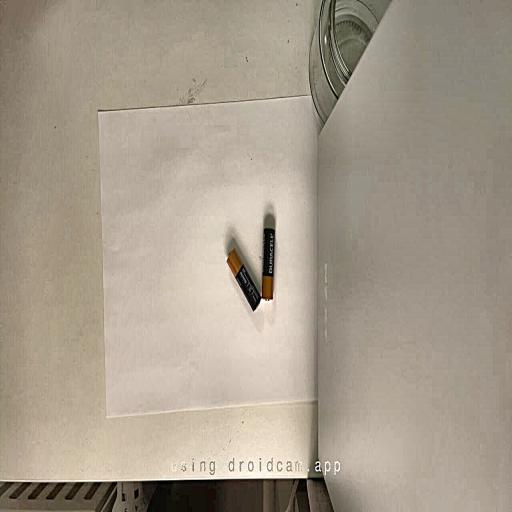DuracellAA: (226, 248, 260, 310), (261, 214, 275, 300)
